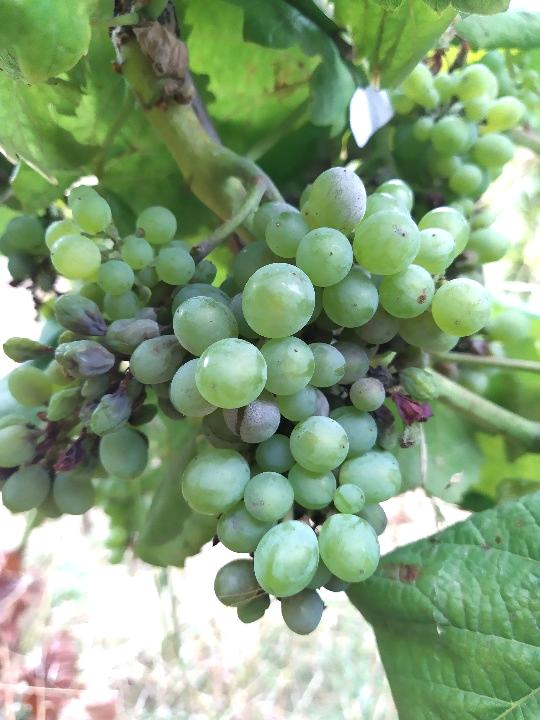grape: (27, 162, 493, 636)
